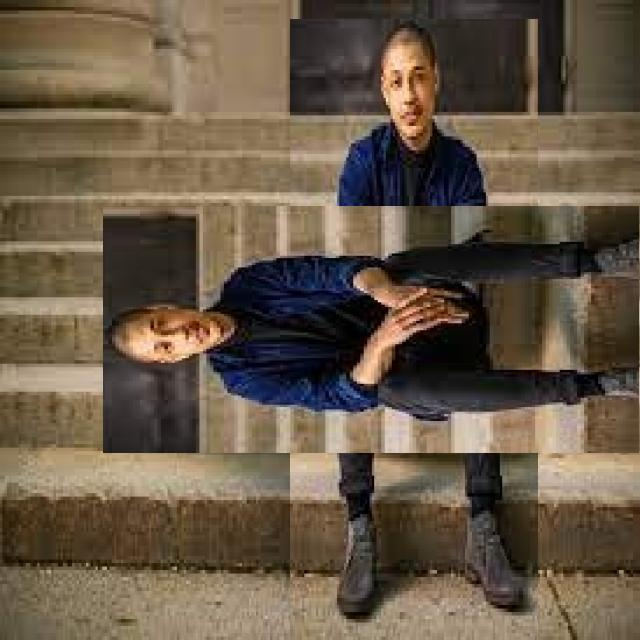NotFall: (120, 184, 640, 423)
